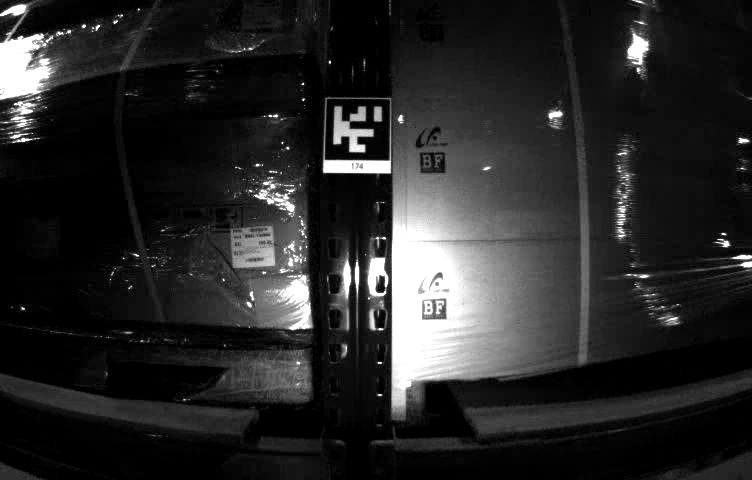True Barcode: (229, 226, 276, 269)
